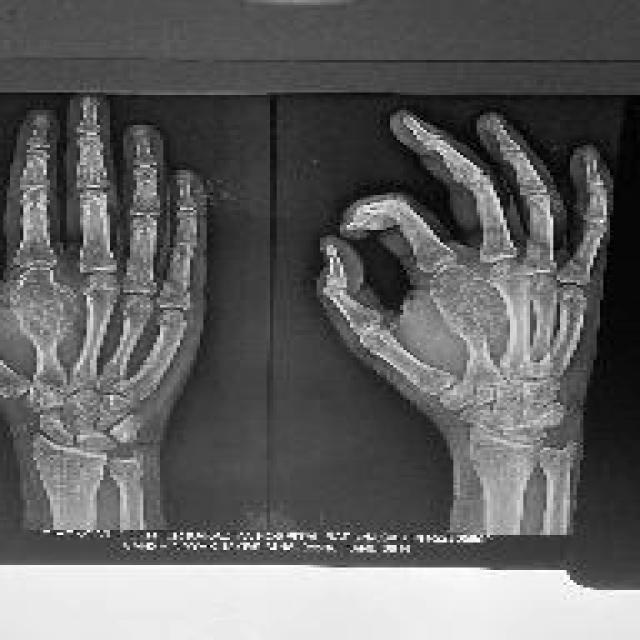bone-cancer: (425, 264, 507, 357), (3, 270, 78, 349)
